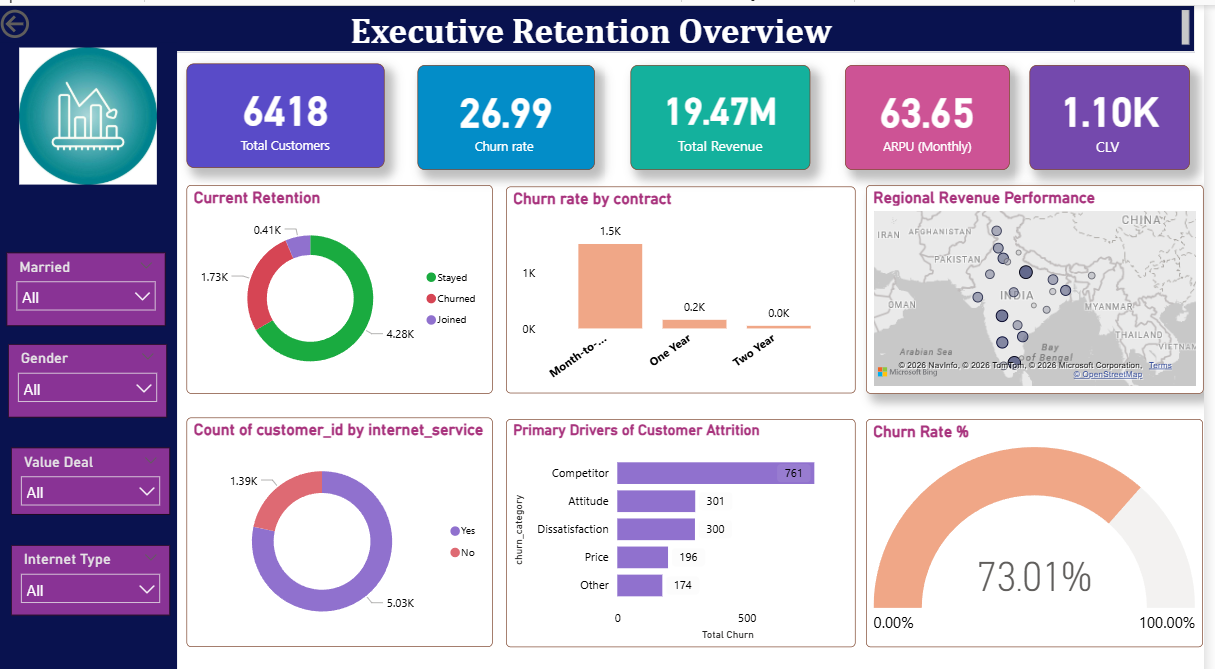

Layout of this report page (visuals, bound fields, positions):
{"tool":"powerbi","page":{"name":"Overview","canvas":[1280,720],"ordinal":0},"visuals":[{"type":"textbox","box":[0,0,1270.4,50],"z":0},{"type":"card","fields":{"Values":["CountNonNull(churn prod_churn.customer_id)"]},"box":[201.5,62.7,209.9,111],"z":1000},{"type":"donutChart","title":"Current Retention","fields":{"Category":["churn prod_churn.customer_status"],"Y":["CountNonNull(churn prod_churn.customer_id)"]},"box":[202,190.9,324.5,221.1],"z":2000},{"type":"card","fields":{"Values":["Sum(churn prod_churn.total_revenue)"]},"box":[672.8,63.6,190.9,111.3],"z":3000},{"type":"card","fields":{"Values":["churn prod_churn.avgrevnueperperson"]},"box":[900.3,63.6,175,111.3],"z":4000},{"type":"card","fields":{"Values":["churn prod_churn.churned percentage"]},"box":[447,63.6,187.7,111.3],"z":5000},{"type":"card","fields":{"Values":["churn prod_churn.clv"]},"box":[1095.9,63.6,170.2,111.3],"z":6000},{"type":"map","title":"Regional Revenue Performance","fields":{"Category":["churn prod_churn.state"],"Size":["CountNonNull(churn prod_churn.total_revenue)"]},"box":[922.6,190.9,357.9,221.1],"z":7000},{"type":"clusteredColumnChart","title":"Churn rate by contract","fields":{"Category":["churn prod_churn.contract"],"Y":["churn prod_churn.churned customers"]},"box":[540.8,192.5,370.6,219.5],"z":8000},{"type":"clusteredBarChart","title":"Primary Drivers of Customer Attrition","fields":{"Category":["churn prod_churn.churn_category"],"Y":["churn prod_churn.Total Churn"]},"box":[540.8,439,370.6,241.8],"z":9000},{"type":"actionButton","box":[0,0,100,40],"z":10000},{"type":"shape","box":[0,39.8,192,680.4],"z":11000},{"type":"slicer","fields":{"Values":["churn prod_churn.married"]},"box":[11.1,262.5,168.6,77.9],"z":12000},{"type":"slicer","fields":{"Values":["churn prod_churn.gender"]},"box":[12.7,359.5,168.6,77.9],"z":13000},{"type":"slicer","fields":{"Values":["churn prod_churn.value_deal"]},"box":[15.9,469.2,168.6,71.6],"z":14000},{"type":"slicer","fields":{"Values":["churn prod_churn.internet_type"]},"box":[15.9,572.6,168.6,74.8],"z":15000},{"type":"image","box":[15.9,39.8,163.8,155.9],"z":16000},{"type":"donutChart","fields":{"Category":["churn prod_churn.internet_service"],"Y":["CountNonNull(churn prod_churn.customer_id)"]},"box":[202,437.4,324.5,243.4],"z":17000},{"type":"gauge","fields":{"Y":["churn prod_churn.Churn Rate %"]},"box":[923,439,357,242],"z":18000}]}

Visuals, with their boxes in screenshot pixels (x1, y1, x2, y2), scaled from the page's 1280x720 canvas onto the 1215x669 screenshot:
textbox: 0:0:1206:46
card - CountNonNull(churn prod_churn.customer_id): 191:58:391:161
"Current Retention" donutChart: 192:177:500:383
card - Sum(churn prod_churn.total_revenue): 639:59:820:163
card - churn prod_churn.avgrevnueperperson: 855:59:1021:163
card - churn prod_churn.churned percentage: 424:59:602:163
card - churn prod_churn.clv: 1040:59:1202:163
"Regional Revenue Performance" map: 876:177:1214:383
"Churn rate by contract" clusteredColumnChart: 513:179:865:383
"Primary Drivers of Customer Attrition" clusteredBarChart: 513:408:865:633
actionButton: 0:0:95:37
shape: 0:37:182:668
slicer - churn prod_churn.married: 11:244:171:316
slicer - churn prod_churn.gender: 12:334:172:406
slicer - churn prod_churn.value_deal: 15:436:175:502
slicer - churn prod_churn.internet_type: 15:532:175:602
image: 15:37:171:182
donutChart - churn prod_churn.internet_service x CountNonNull(churn prod_churn.customer_id): 192:406:500:633
gauge - churn prod_churn.Churn Rate %: 876:408:1214:633
